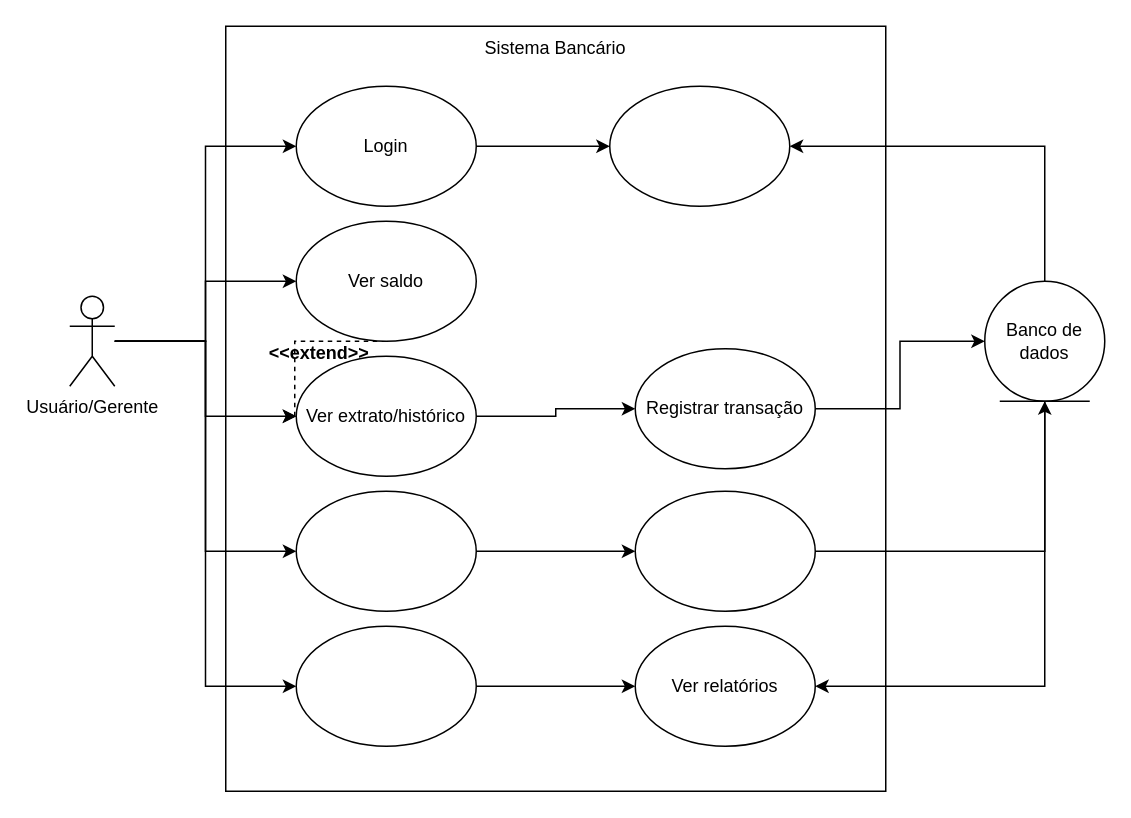
Some shapes in this 1131 by 818 pixel diagram are drawn without their labels. Here are the shapes that lost their labels. From the top down, the centre of each, then its label:
At pixel 699 145: "Gerenciar clientes".
At pixel 385 550: "Realizar depósito".
At pixel 724 550: "Realizar saque".
At pixel 385 685: "Transferir valores".
